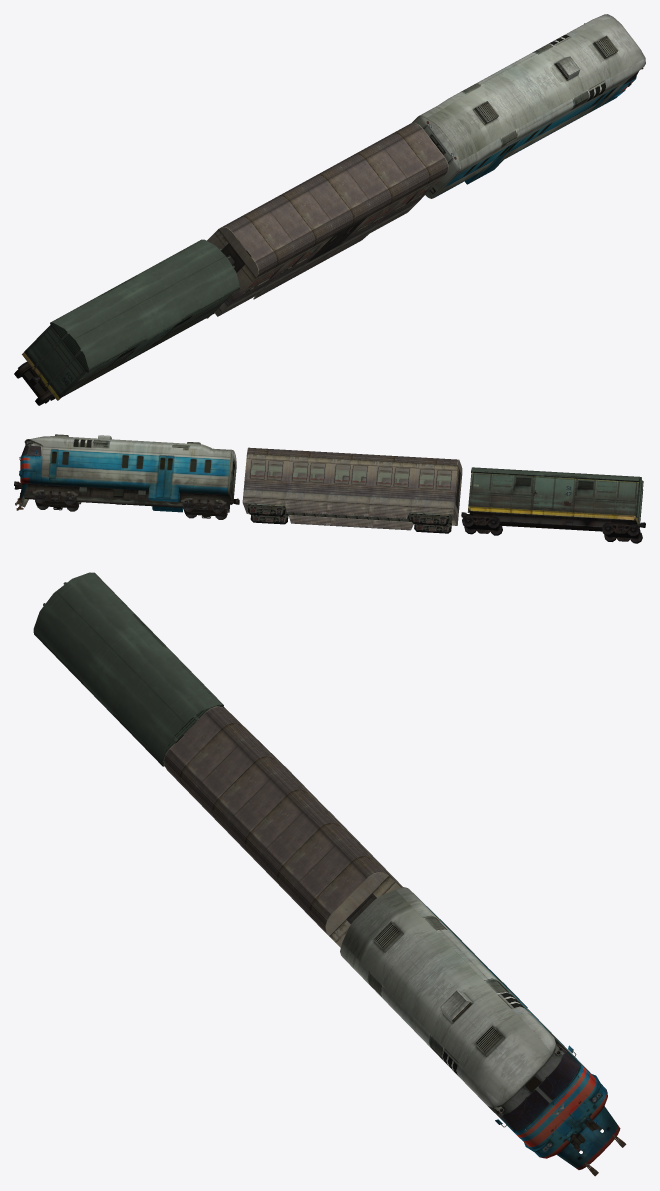
File: train.gltf
3 renders of one model, top to bottom at view 1: azimuth 30°, elevation 25°; view 2: azimuth 150°, elevation 25°; view 3: azimuth 270°, elevation 25°, orthographic. The views are drawn at different scales.
Visible parts, largest first — view 1: prop_dynamic_11432_27, prop_dynamic_11433_26, func_tracktrain_8545_8574_115, func_tracktrain_8545_8567_116, func_tracktrain_8545_8560_117, func_tracktrain_8545_8581_114, func_tracktrain_8545_8588_113, func_tracktrain_8545_8553_118, func_tracktrain_8545_9107_40; view 2: prop_dynamic_11432_27, prop_dynamic_11433_26, func_tracktrain_8545_8658_103, func_tracktrain_8545_9114_39, func_tracktrain_8545_9121_38, func_tracktrain_8545_8609_110, func_tracktrain_8545_9174_31, func_tracktrain_8545_9137_36, func_tracktrain_8545_8602_111, func_tracktrain_8545_9144_35, func_tracktrain_8545_8595_112, func_tracktrain_8545_9128_37 (+21 smaller); view 3: prop_dynamic_11432_27, prop_dynamic_11433_26, func_tracktrain_8545_8574_115, func_tracktrain_8545_8581_114, func_tracktrain_8545_8567_116, func_tracktrain_8545_8588_113, func_tracktrain_8545_8560_117, func_tracktrain_8545_8595_112, func_tracktrain_8545_8553_118.
Boxes of the visible parts, x1,y1,x2,y2 form: prop_dynamic_11432_27: (412, 14, 645, 198); prop_dynamic_11433_26: (14, 239, 239, 405); func_tracktrain_8545_8574_115: (232, 128, 444, 261); func_tracktrain_8545_8567_116: (256, 158, 446, 265); func_tracktrain_8545_8560_117: (258, 162, 447, 270); func_tracktrain_8545_8581_114: (229, 125, 420, 231); func_tracktrain_8545_8588_113: (226, 123, 417, 228); func_tracktrain_8545_8553_118: (258, 167, 447, 273); func_tracktrain_8545_9107_40: (219, 202, 417, 312); prop_dynamic_11432_27: (14, 434, 239, 519); prop_dynamic_11433_26: (461, 467, 645, 543); func_tracktrain_8545_8658_103: (243, 479, 455, 500); func_tracktrain_8545_9114_39: (243, 489, 455, 511); func_tracktrain_8545_9121_38: (242, 497, 453, 514); func_tracktrain_8545_8609_110: (246, 453, 457, 470); func_tracktrain_8545_9174_31: (289, 516, 413, 530); func_tracktrain_8545_9137_36: (285, 505, 409, 518); func_tracktrain_8545_8602_111: (247, 450, 457, 465); func_tracktrain_8545_9144_35: (248, 503, 452, 523); func_tracktrain_8545_8595_112: (248, 448, 457, 462); func_tracktrain_8545_9128_37: (411, 513, 448, 525); prop_dynamic_11432_27: (340, 887, 620, 1169); prop_dynamic_11433_26: (33, 572, 225, 766); func_tracktrain_8545_8574_115: (169, 712, 367, 914); func_tracktrain_8545_8581_114: (207, 709, 372, 877); func_tracktrain_8545_8567_116: (166, 750, 329, 919); func_tracktrain_8545_8588_113: (212, 707, 377, 873); func_tracktrain_8545_8560_117: (164, 755, 326, 925); func_tracktrain_8545_8595_112: (218, 707, 383, 872); func_tracktrain_8545_8553_118: (164, 761, 325, 930).
Bounding box in the file's own units: 18.08 × 2.27 × 8.92.
Materials: 27 (27 with a texture image).
